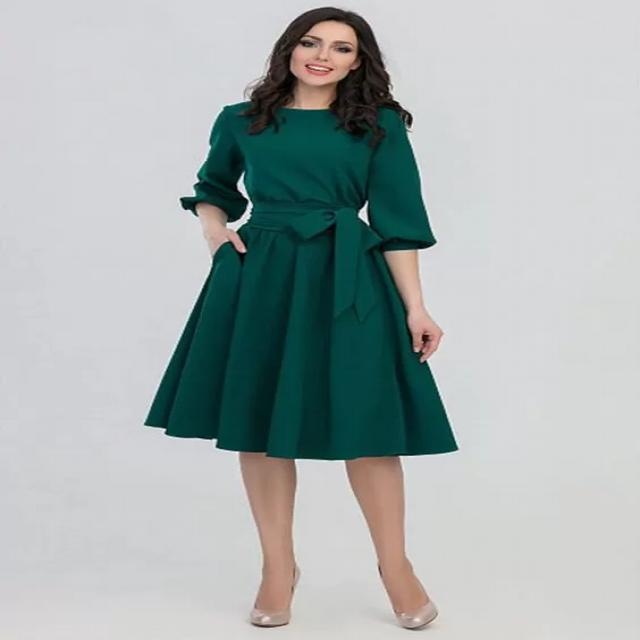clothes: (158, 91, 490, 471)
